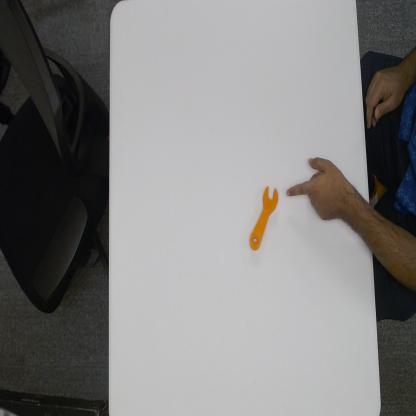Hand: (283, 152, 365, 224)
Screwdriver: (248, 182, 280, 255)
